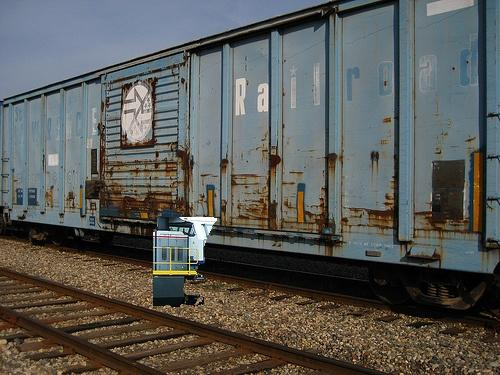tampered: (154, 217, 217, 307)
